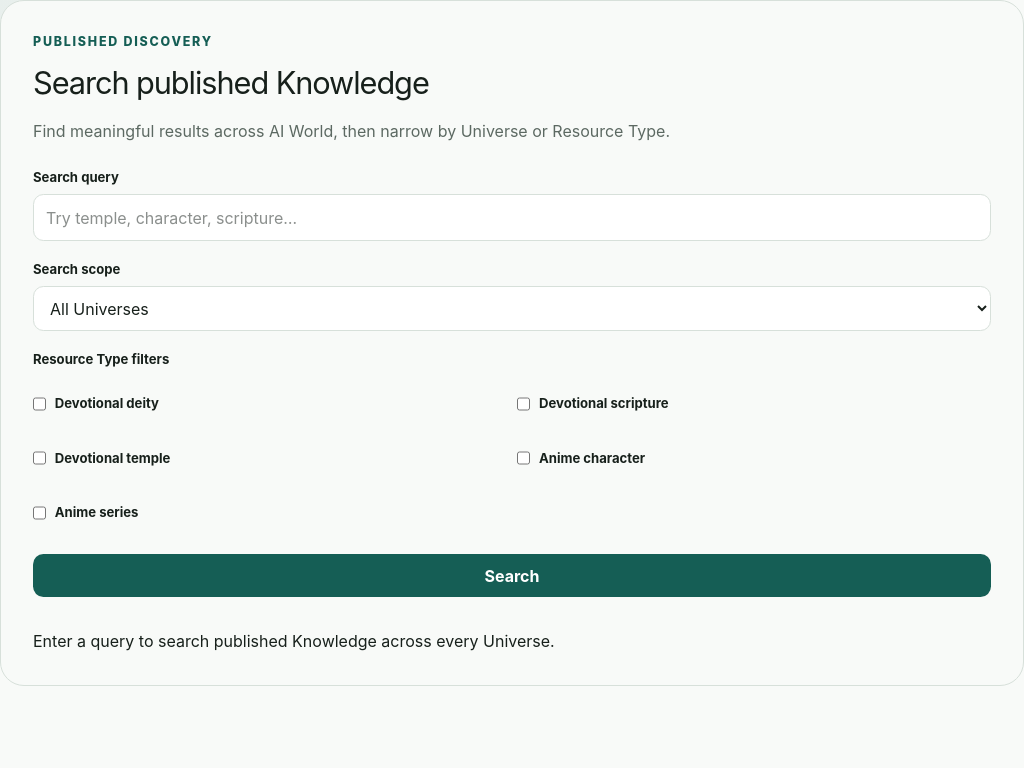
Test: Phase 6 Web Discovery integration › keeps an unexpected Search failure bounded and retries the same request
Type "temple" into the field labelled "Search query" at coordinates (512, 218), box [33,194,991,241]
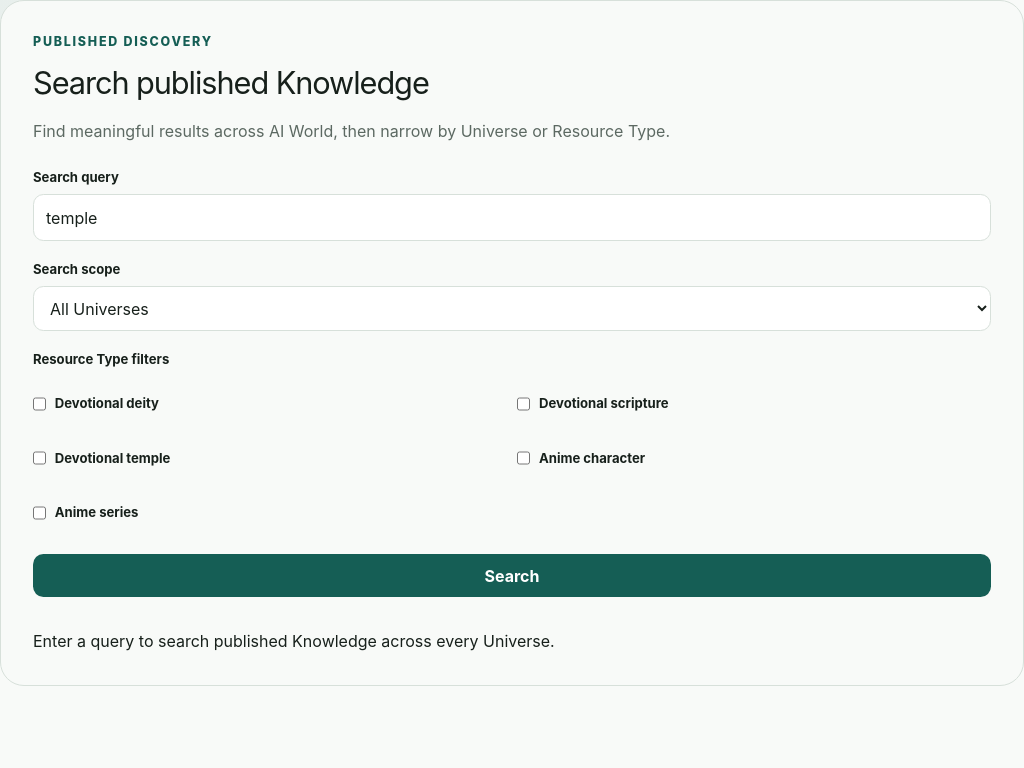
Click the button "Search" at coordinates (512, 576), box [33,554,991,597]
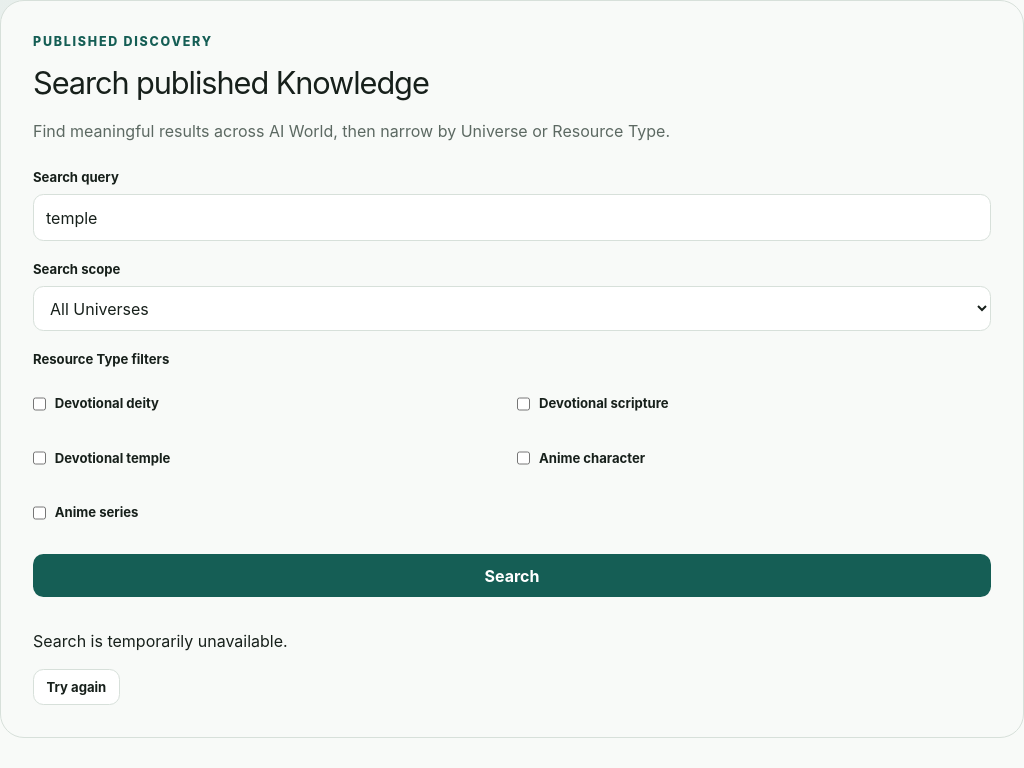
Replace the text in the field labelled "Search query" with "character" at coordinates (512, 218), box [33,194,991,241]
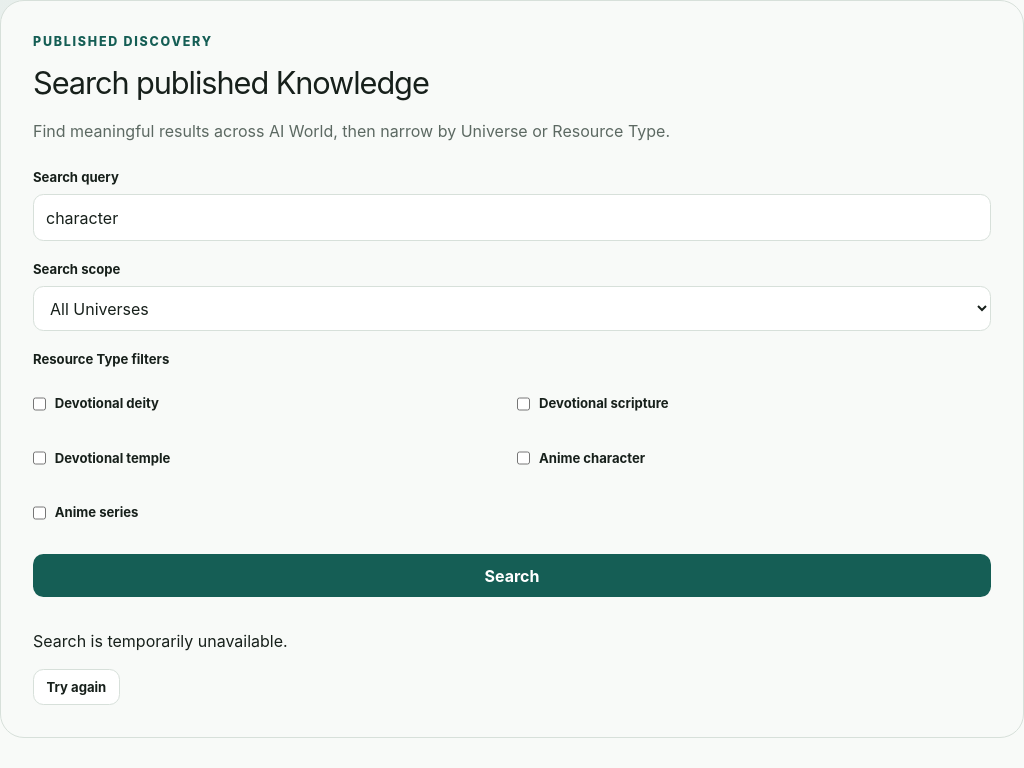
Click the button "Try again" at coordinates (76, 687), box [33,669,120,705]
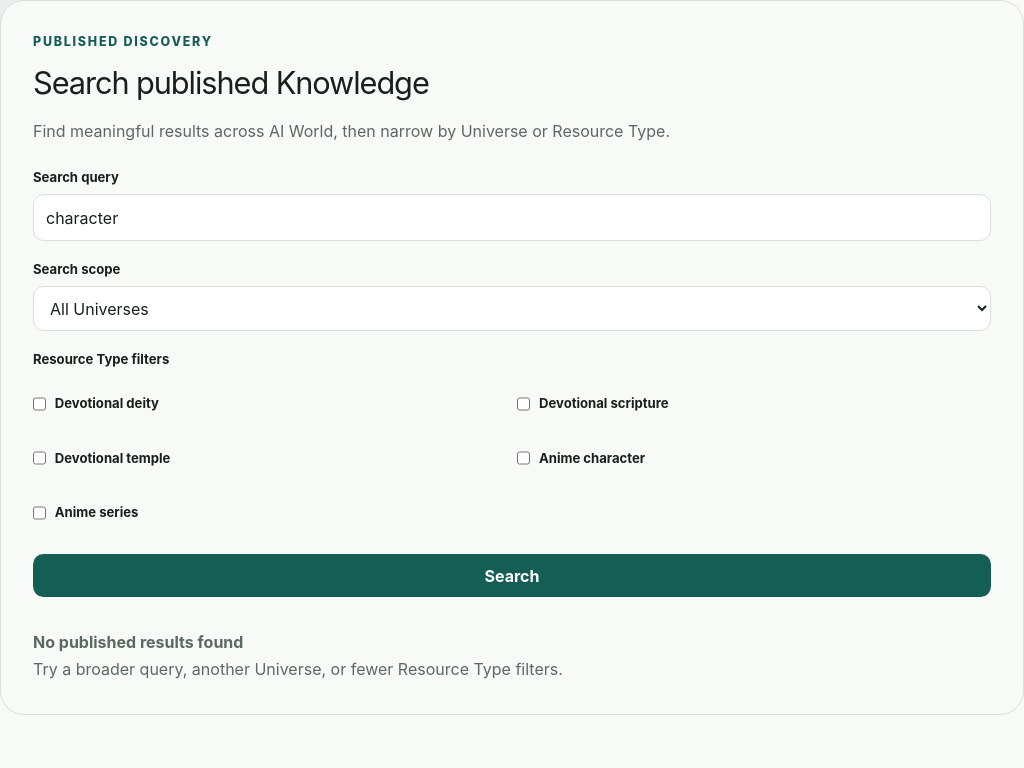
expect the text "No published results found" is shown: met, box [33,632,243,652]
